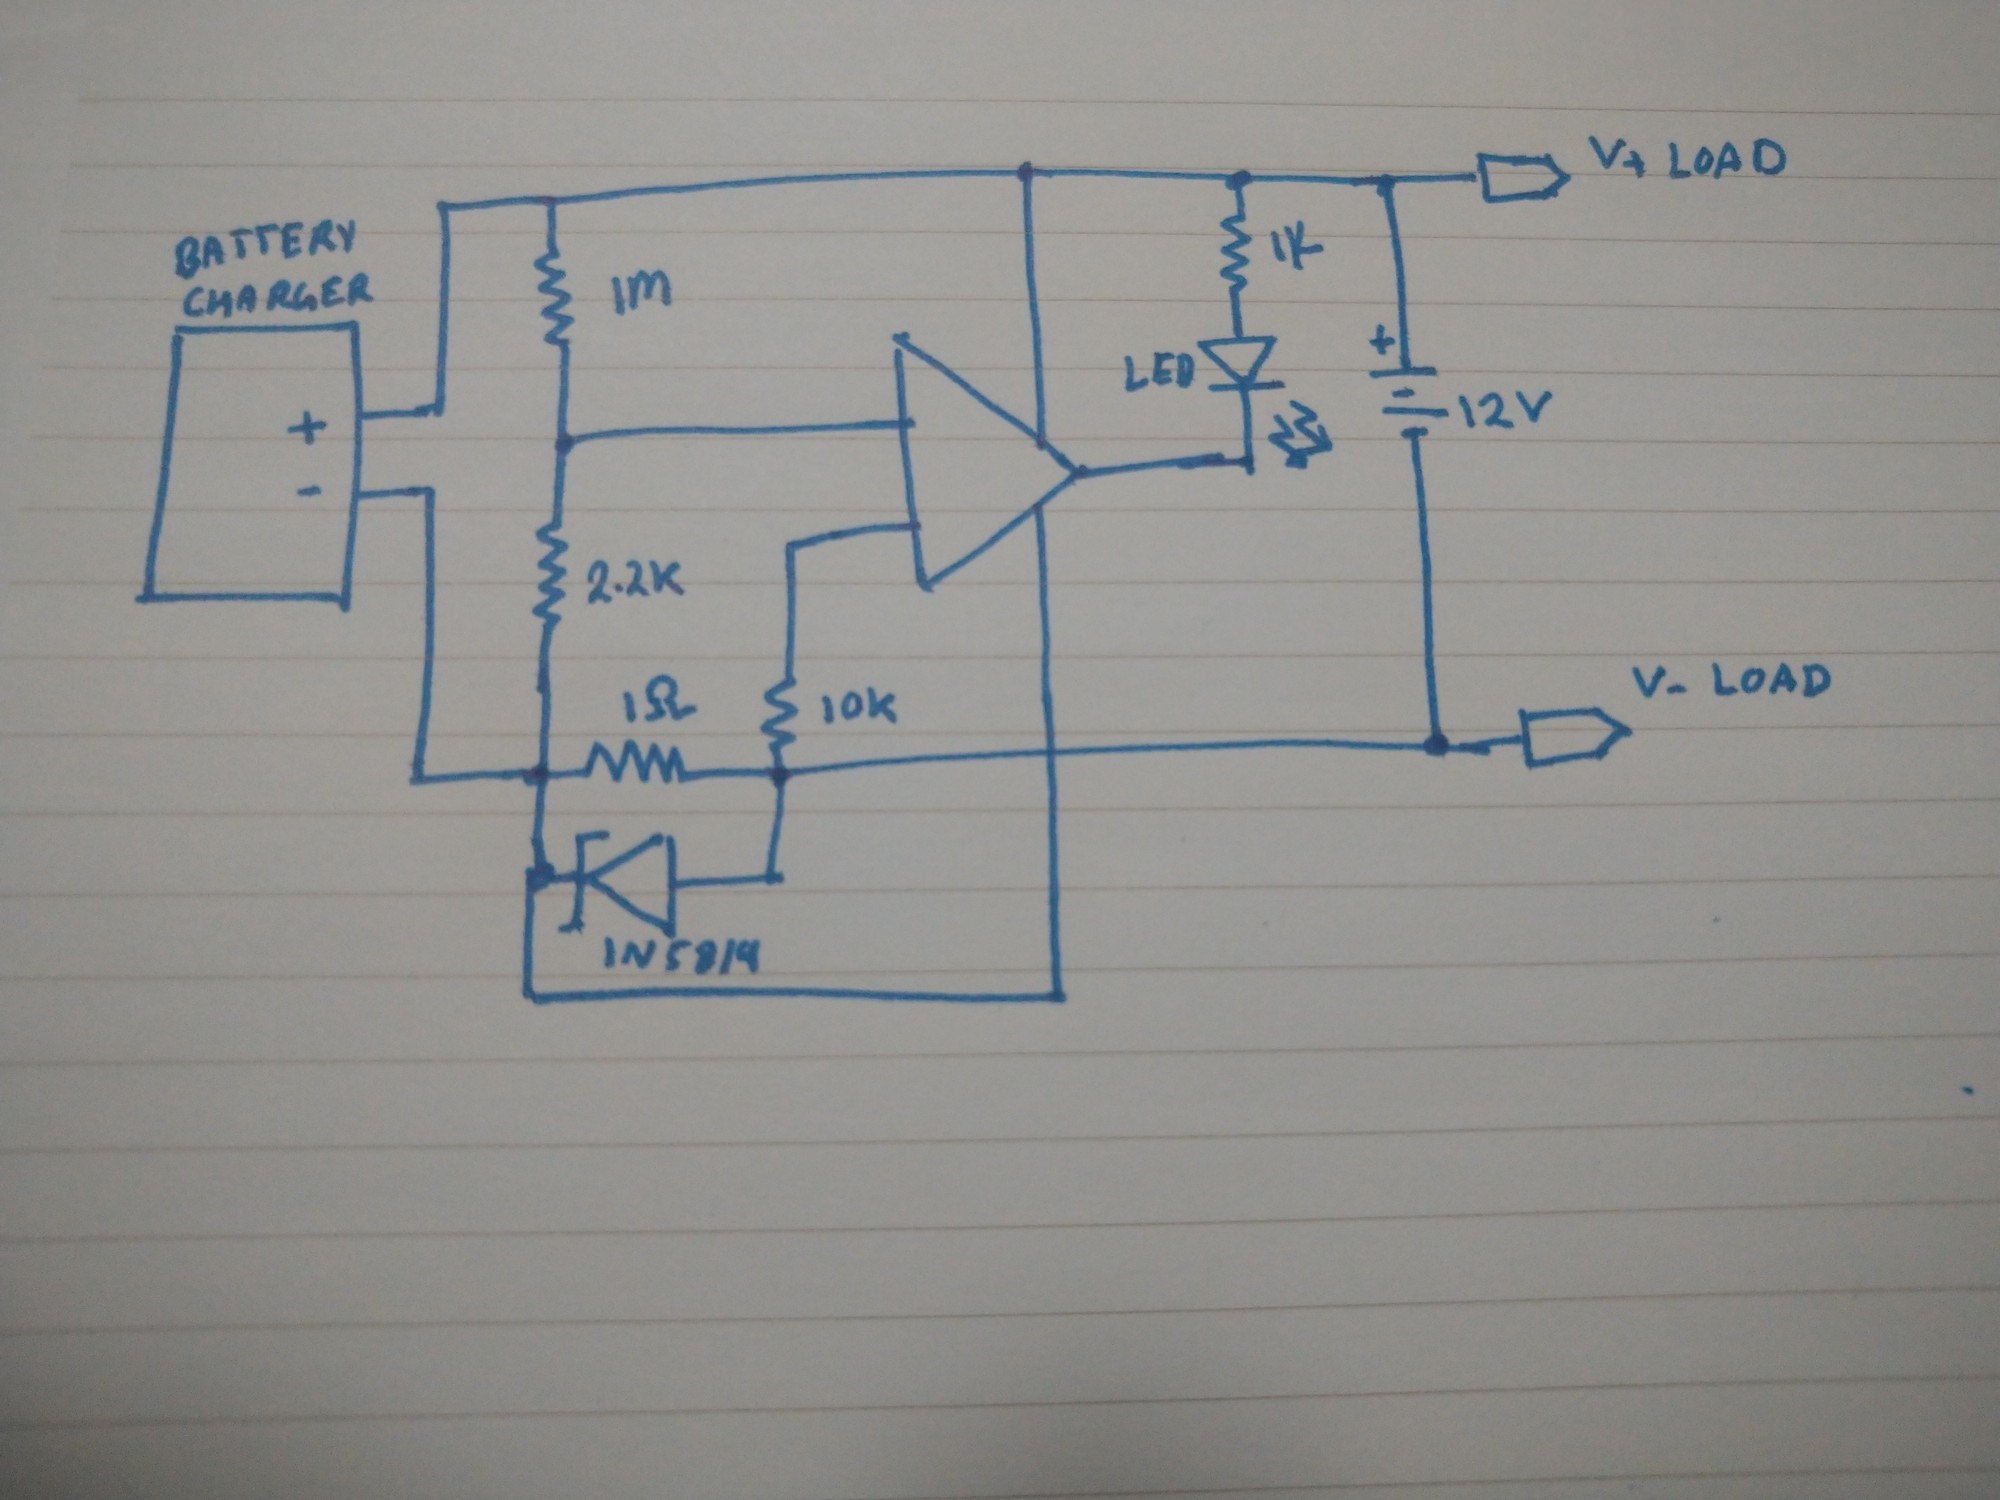crossover: (1036, 737, 1069, 767)
diode: (557, 827, 687, 941)
diode.light_emitting: (1198, 332, 1342, 463)
junction: (520, 854, 557, 901), (1417, 726, 1458, 764), (518, 759, 557, 793), (546, 429, 586, 459), (764, 761, 798, 791), (1372, 172, 1406, 202), (1220, 165, 1255, 195), (759, 863, 791, 895), (1043, 980, 1074, 1012), (1235, 449, 1266, 481), (405, 766, 435, 797), (513, 985, 548, 1012), (420, 395, 454, 422), (1011, 159, 1043, 186), (417, 476, 446, 504), (430, 199, 457, 221), (539, 191, 565, 213), (780, 536, 805, 558)
operational_amplifier: (882, 328, 1088, 599)
resistor: (581, 736, 691, 793), (529, 246, 583, 351), (526, 518, 573, 635), (757, 671, 805, 755), (1216, 213, 1255, 296)
terminal: (1515, 696, 1635, 780), (1471, 145, 1576, 210)
text: (173, 214, 357, 280), (1581, 132, 1800, 187), (1628, 659, 1836, 703), (181, 273, 380, 318), (600, 934, 767, 978), (584, 558, 691, 608), (1458, 388, 1554, 433), (606, 266, 683, 323), (622, 671, 704, 722), (1268, 221, 1335, 274), (820, 682, 902, 726), (1120, 350, 1203, 391)
voltage.dc: (135, 317, 369, 613), (1359, 358, 1457, 459)
